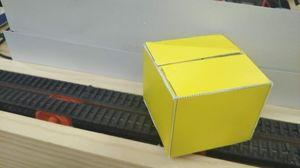box4: (141, 32, 272, 159)
